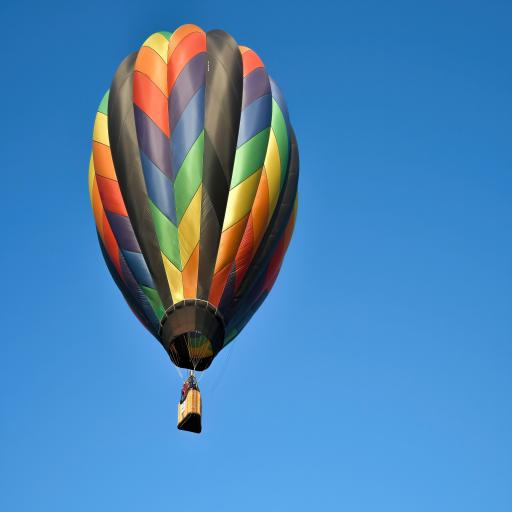hot air ballon: (88, 21, 300, 434)
